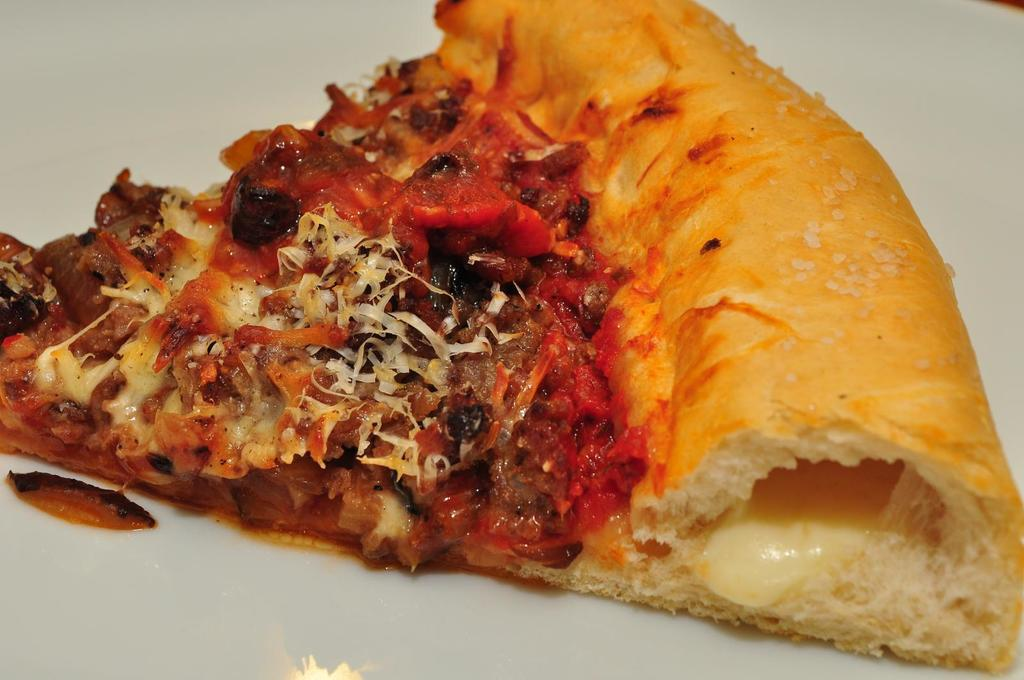Pizza: (1, 0, 1023, 672)
